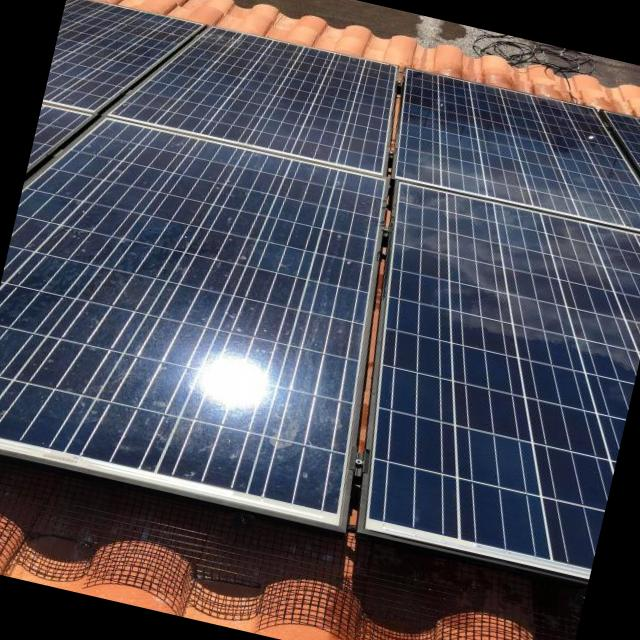faulty: (0, 114, 381, 515), (362, 196, 640, 570), (395, 62, 640, 231), (120, 24, 397, 166), (45, 0, 196, 110)
